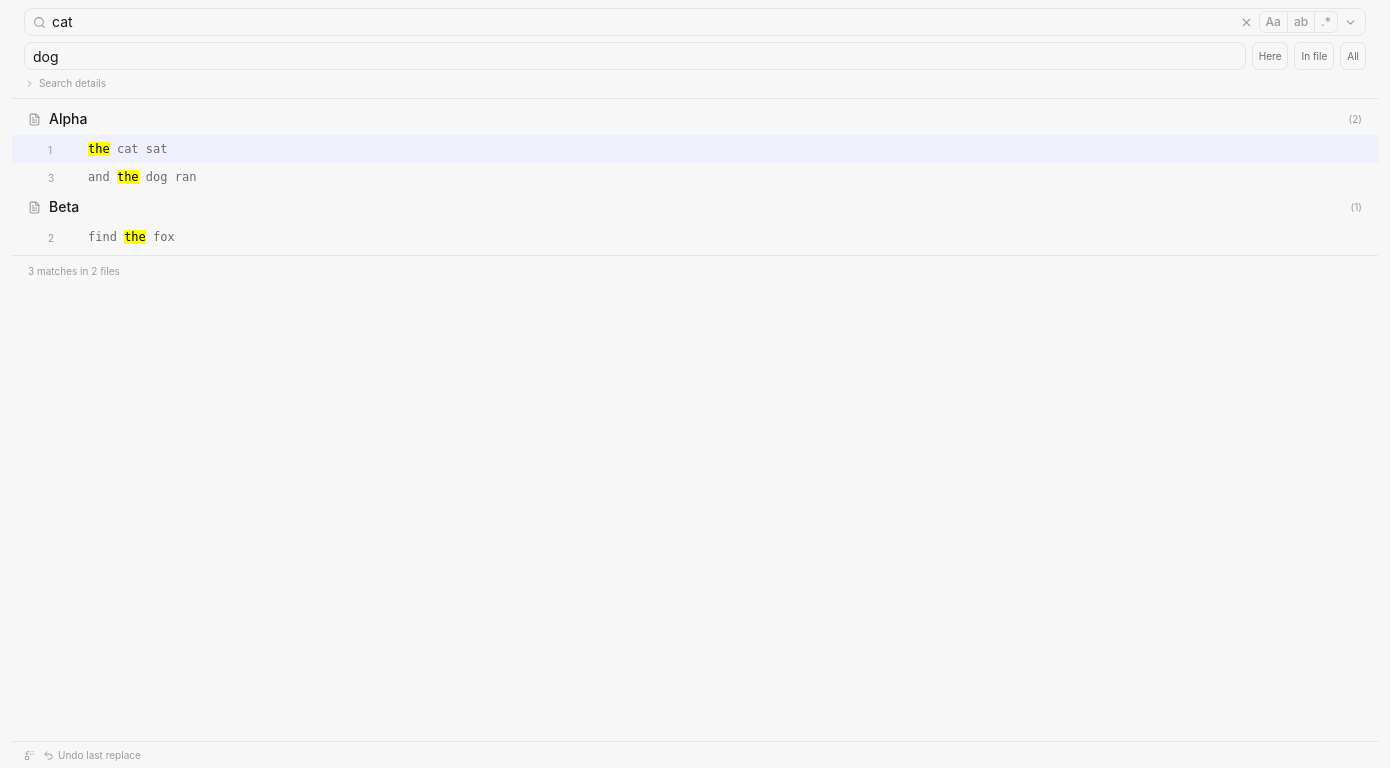
it: SidebarSearch (Search view) › says when the replace plan dropped a document outside the workspace root
Click the button with test id "search-replace-all" at coordinates (1353, 56), box [1340,42,1366,70]
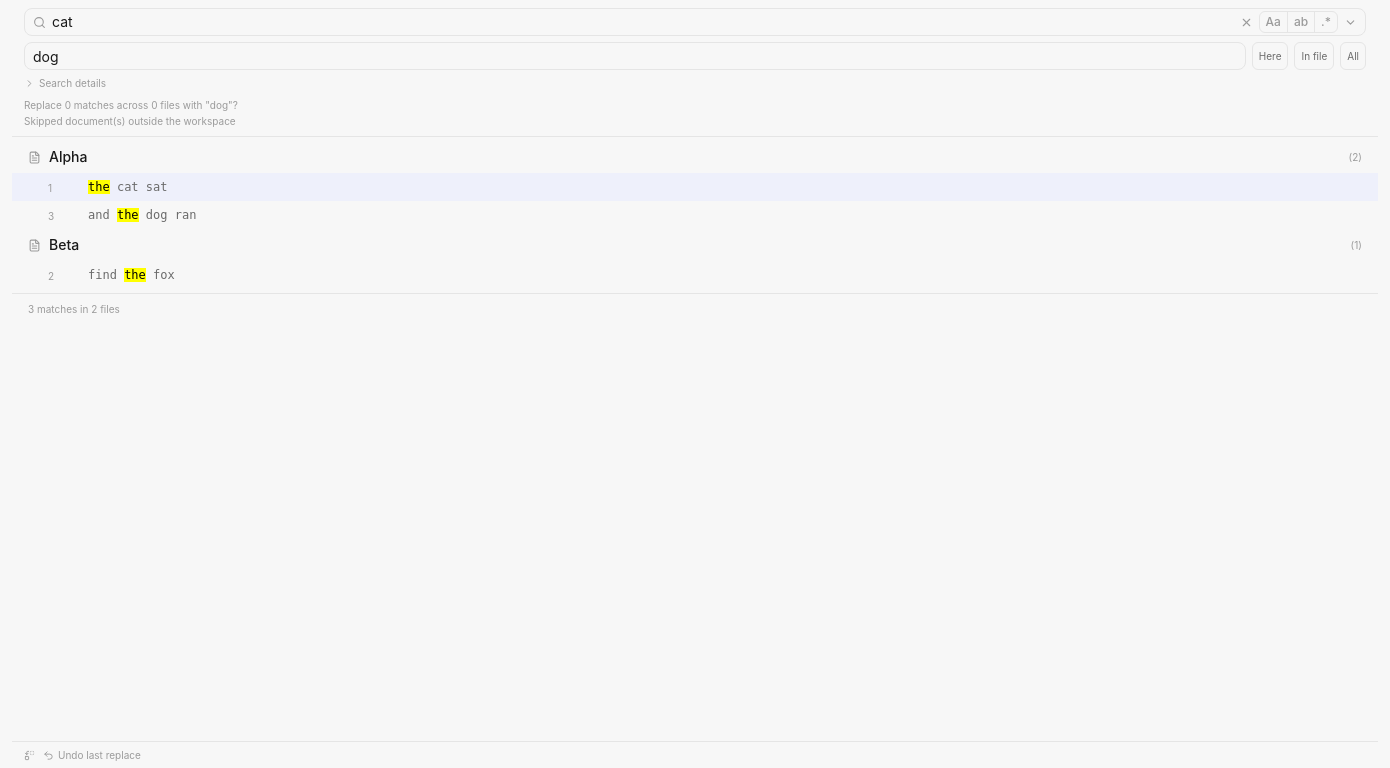
Expected: the text with test id "search-replace-skipped" reads "Skipped document(s) outside the workspace", [24,115,236,127]
